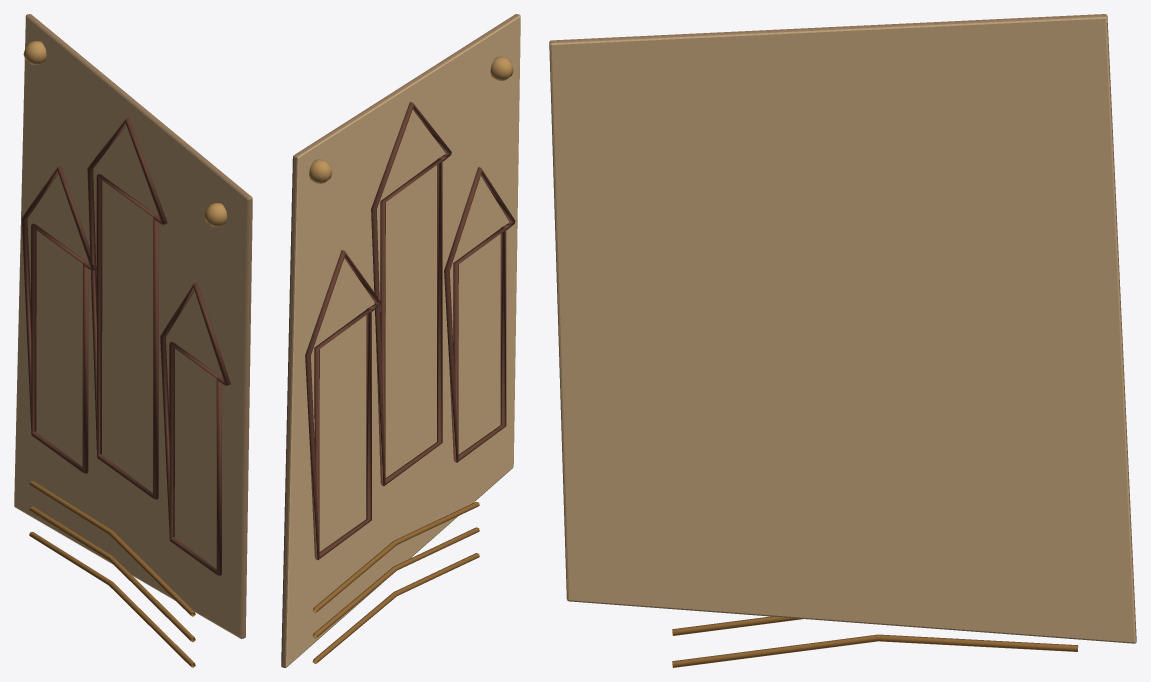
Rendered from SM_Menu_ScenicPlans.fbx.
The picture shows the model from 3 angles, left to right: view 1: azimuth 30°, elevation 25°; view 2: azimuth 150°, elevation 25°; view 3: azimuth 270°, elevation 25°; orthographic projection. The views are drawn at different scales.
Parts seen in each view (by area): view 1: SM_Menu_ScenicPlans; view 2: SM_Menu_ScenicPlans; view 3: SM_Menu_ScenicPlans.
Boxes of the visible parts, x1,y1,x2,y2 form: SM_Menu_ScenicPlans: (14,14,252,667); SM_Menu_ScenicPlans: (281,14,520,667); SM_Menu_ScenicPlans: (549,14,1136,667).
Size of the model in its own units: 5.36 by 99.97 by 124.
